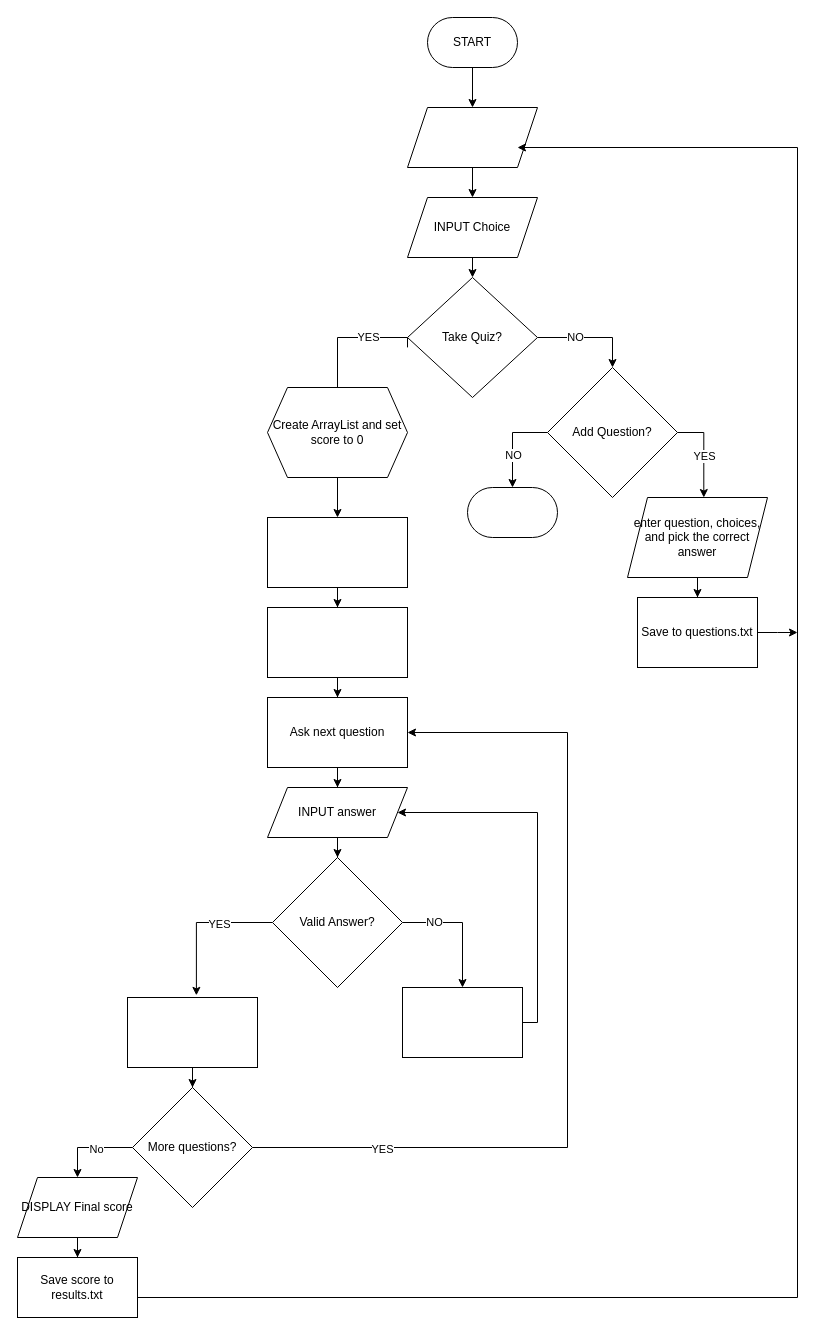
Image size: 823x1335. Some labels were removed from this diagram. Each missing label, with the box of its shape:
Catch custom exception: (402, 986, 522, 1058)
Check answer and update score: (126, 996, 258, 1068)
DISPLAY MENU: (406, 106, 538, 168)
END: (466, 486, 558, 538)
READ questions from questions.txt: (266, 516, 408, 588)
Shuffle questions: (266, 606, 408, 678)
